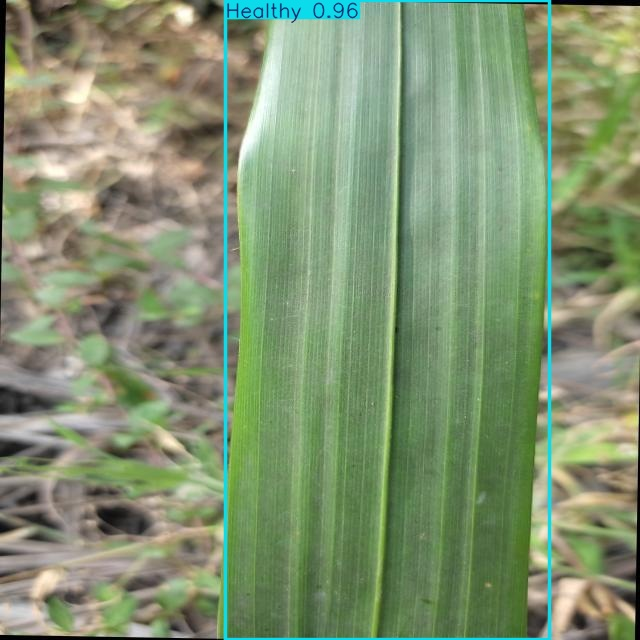Healthy: (226, 0, 549, 640)
